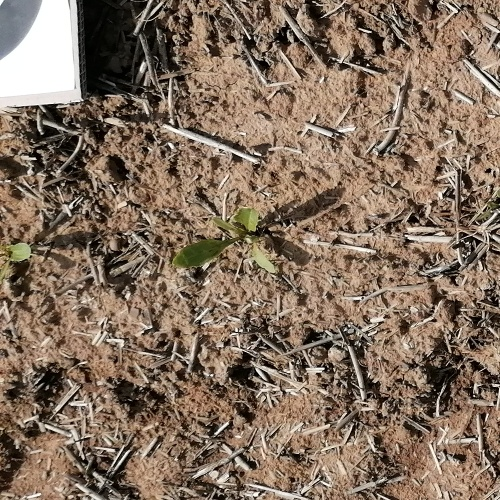beet: (171, 212, 278, 270), (0, 244, 32, 268)
